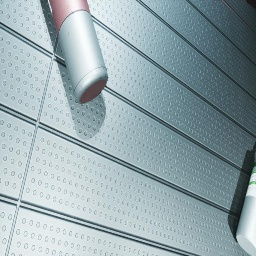0: (236, 162, 256, 256)
FireExtinguisher ]: (254, 0, 256, 2)
NitrogenTank ,: (48, 0, 108, 104)
